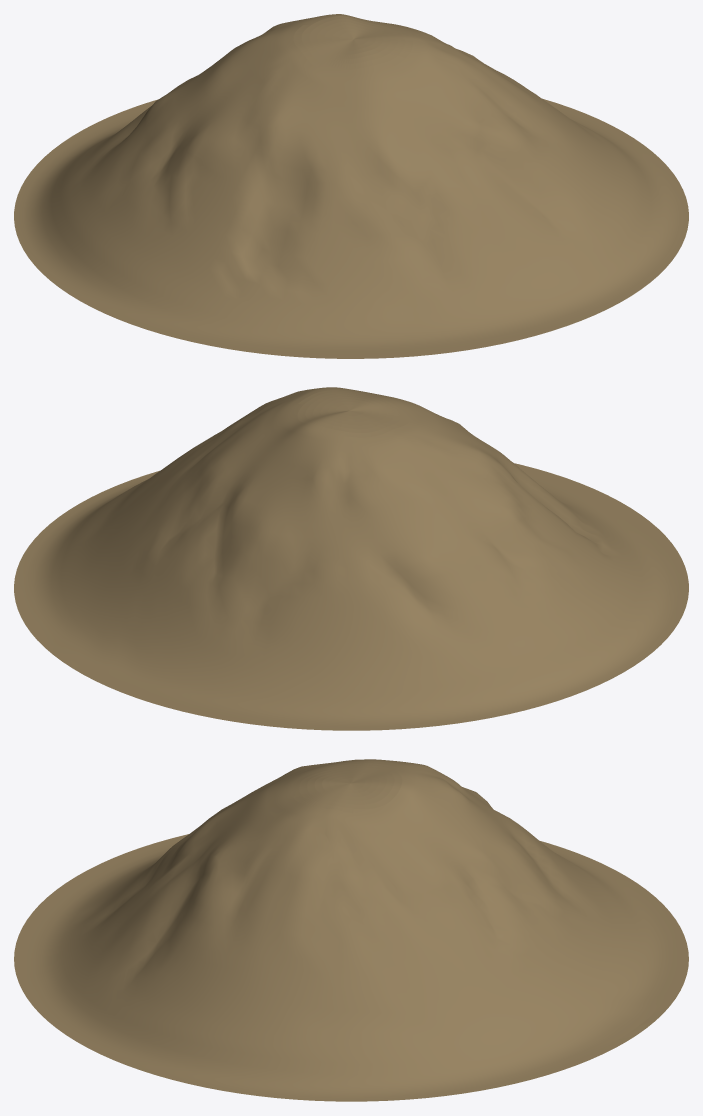
The model's file is hill-v5.glb.
The picture shows the model from 3 angles, top to bottom: view 1: azimuth 30°, elevation 25°; view 2: azimuth 150°, elevation 25°; view 3: azimuth 270°, elevation 25°; orthographic projection.
Parts seen in each view (by area): view 1: hill_v4_2; view 2: hill_v4_2; view 3: hill_v4_2.
Boxes of the visible parts, left/top/right/bottom form: hill_v4_2: left=14, top=14, right=688, bottom=358; hill_v4_2: left=14, top=387, right=688, bottom=730; hill_v4_2: left=14, top=759, right=688, bottom=1101.
Bounding box in the file's own units: 2 × 0.5876 × 2.
